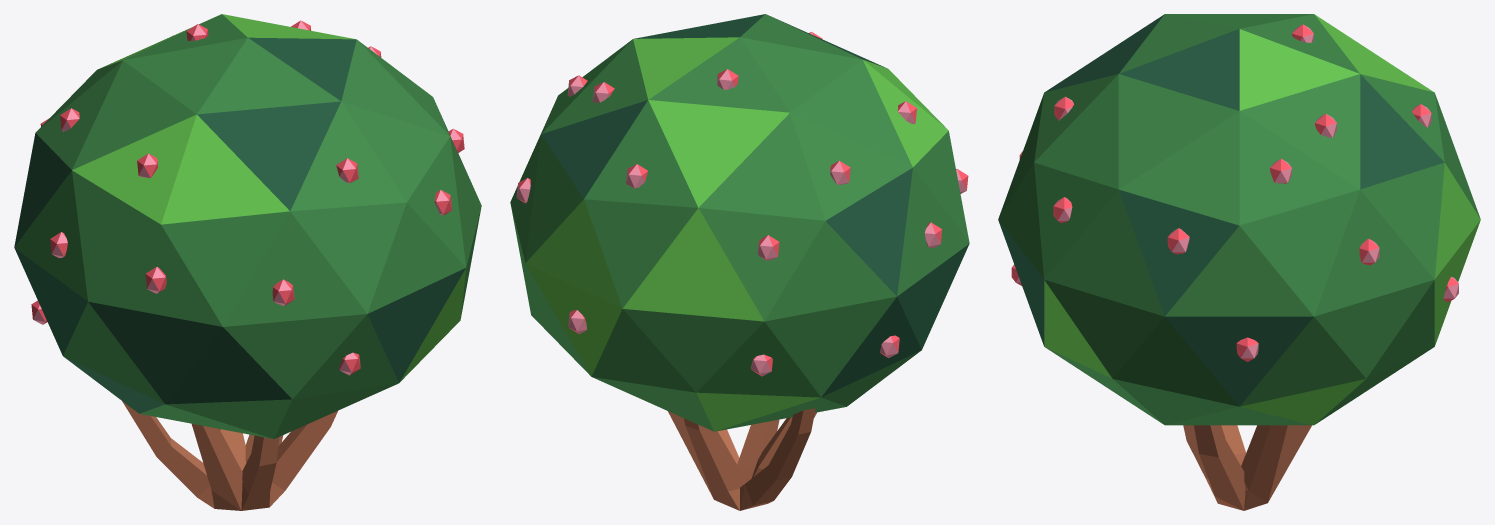
Rendered from Bush 03.fbx.
The picture shows the model from 3 angles, left to right: view 1: azimuth 30°, elevation 25°; view 2: azimuth 150°, elevation 25°; view 3: azimuth 270°, elevation 25°; orthographic projection. The views are drawn at different scales.
Parts seen in each view (by area): view 1: Bush 03, Bush 03 Fruits; view 2: Bush 03, Bush 03 Fruits; view 3: Bush 03, Bush 03 Fruits.
Boxes of the visible parts, box(x1,y1,x2,y2) form: Bush 03: box(14, 14, 481, 510); Bush 03 Fruits: box(31, 20, 464, 375); Bush 03: box(510, 14, 969, 510); Bush 03 Fruits: box(516, 31, 968, 376); Bush 03: box(998, 14, 1480, 510); Bush 03 Fruits: box(1011, 24, 1458, 361).
Size of the model in its own units: 193 by 215 by 200.
